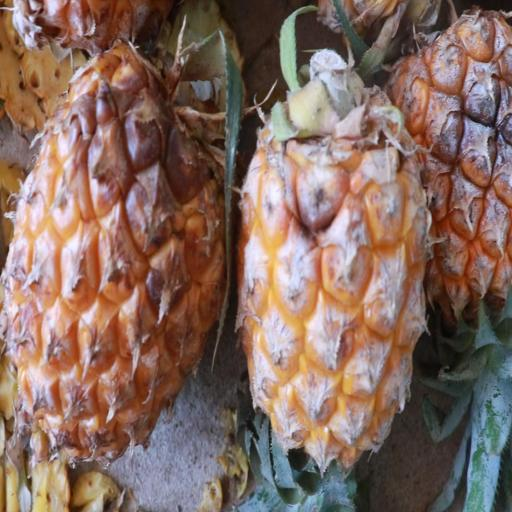Pineapple - v8 v1: (0, 33, 230, 469), (232, 48, 433, 512), (385, 0, 509, 385)
